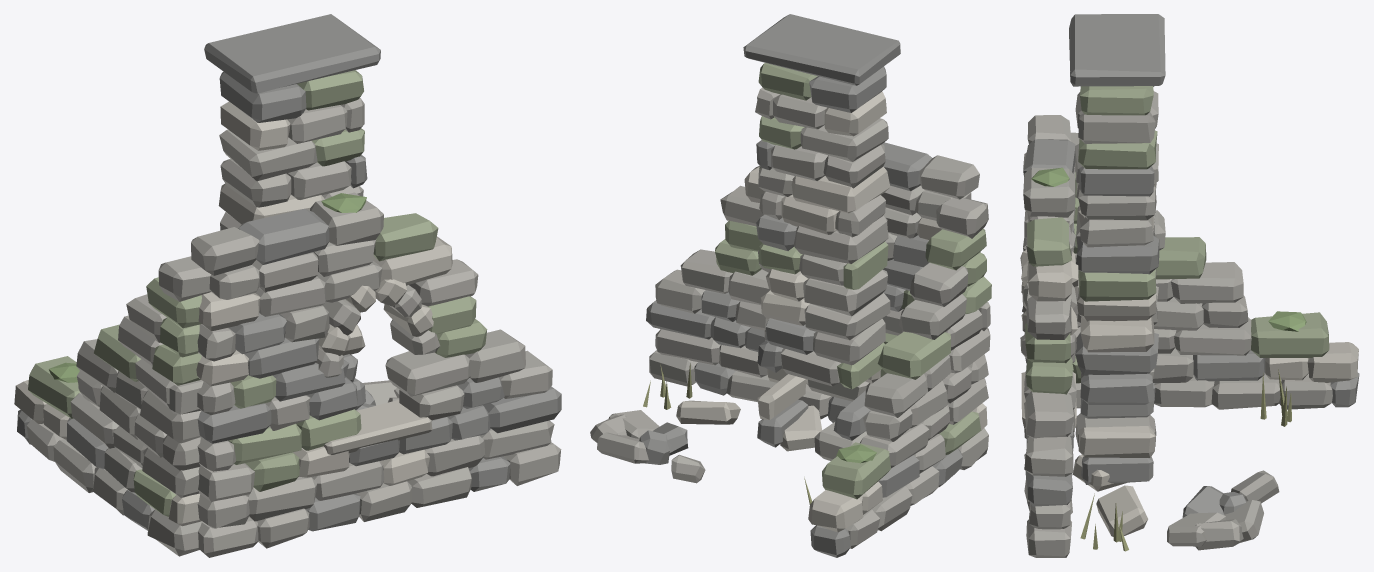
File: Ruin_House_B.fbx
3 views of the same model, side by side, from view 1: azimuth 30°, elevation 25°; view 2: azimuth 150°, elevation 25°; view 3: azimuth 270°, elevation 25° (orthographic). The views are drawn at different scales.
Visible parts, largest first — view 1: Ruin_House_B; view 2: Ruin_House_B; view 3: Ruin_House_B.
Part boxes in pixels (x1,y1,x2,y2): Ruin_House_B: (14, 14, 561, 557); Ruin_House_B: (590, 14, 991, 557); Ruin_House_B: (1020, 14, 1359, 557).
Bounding box in the file's own units: 4.52 × 5.25 × 3.75.
